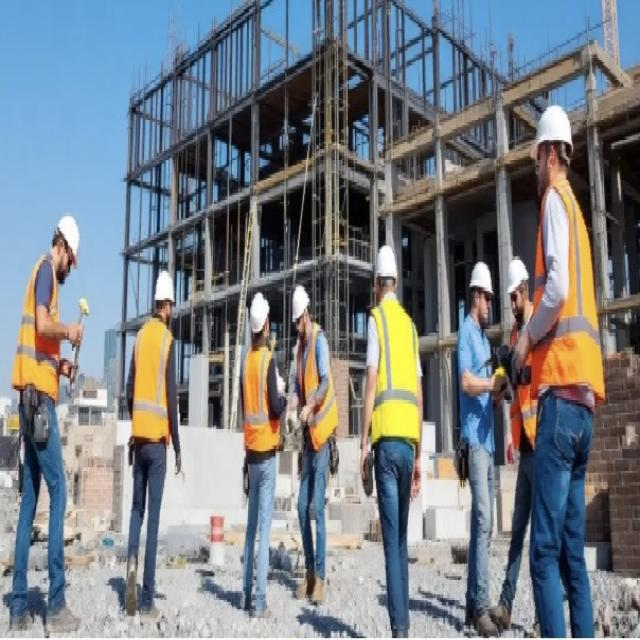boots: (42, 556, 80, 636), (8, 557, 35, 635), (116, 550, 140, 624), (142, 571, 171, 625), (465, 594, 499, 640), (256, 565, 278, 627), (492, 586, 522, 631), (314, 546, 332, 607), (297, 550, 313, 612), (241, 555, 254, 623)
gloves: (167, 438, 191, 481)
helmet: (525, 101, 589, 202), (38, 192, 93, 296), (142, 263, 190, 340), (366, 245, 420, 309), (244, 288, 278, 358), (290, 282, 320, 356), (465, 254, 497, 302), (508, 252, 531, 304)
no-gloves: (57, 304, 91, 354), (512, 327, 542, 379), (356, 445, 382, 501), (411, 447, 429, 508), (480, 367, 511, 401)
person: (523, 102, 627, 640), (4, 190, 98, 637), (114, 248, 209, 628), (356, 248, 442, 640), (289, 278, 349, 628), (237, 278, 285, 636)
vest: (534, 203, 622, 404), (364, 305, 428, 443), (130, 309, 188, 459), (239, 336, 286, 463), (10, 294, 64, 402), (300, 347, 350, 454)
